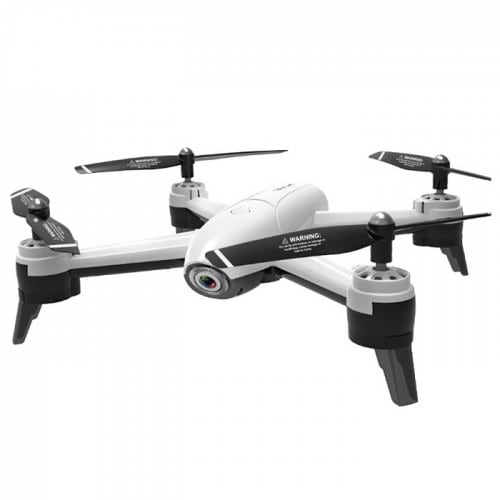drone: (9, 144, 500, 410)
